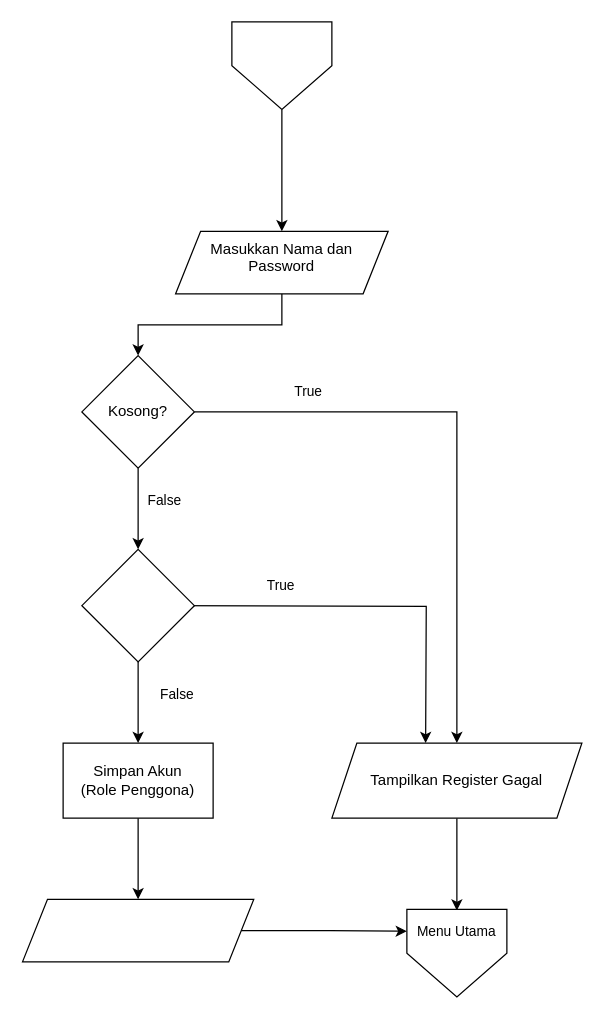
Some shapes in this 604 by 1019 pixel diagram are drawn without their labels. Each missing label, with the centre of its shape:
"Register" belongs at point 281,65.
"Tampilkan Register Berhasil" belongs at point 137,930.
"Username sudah ada?" belongs at point 137,605.
